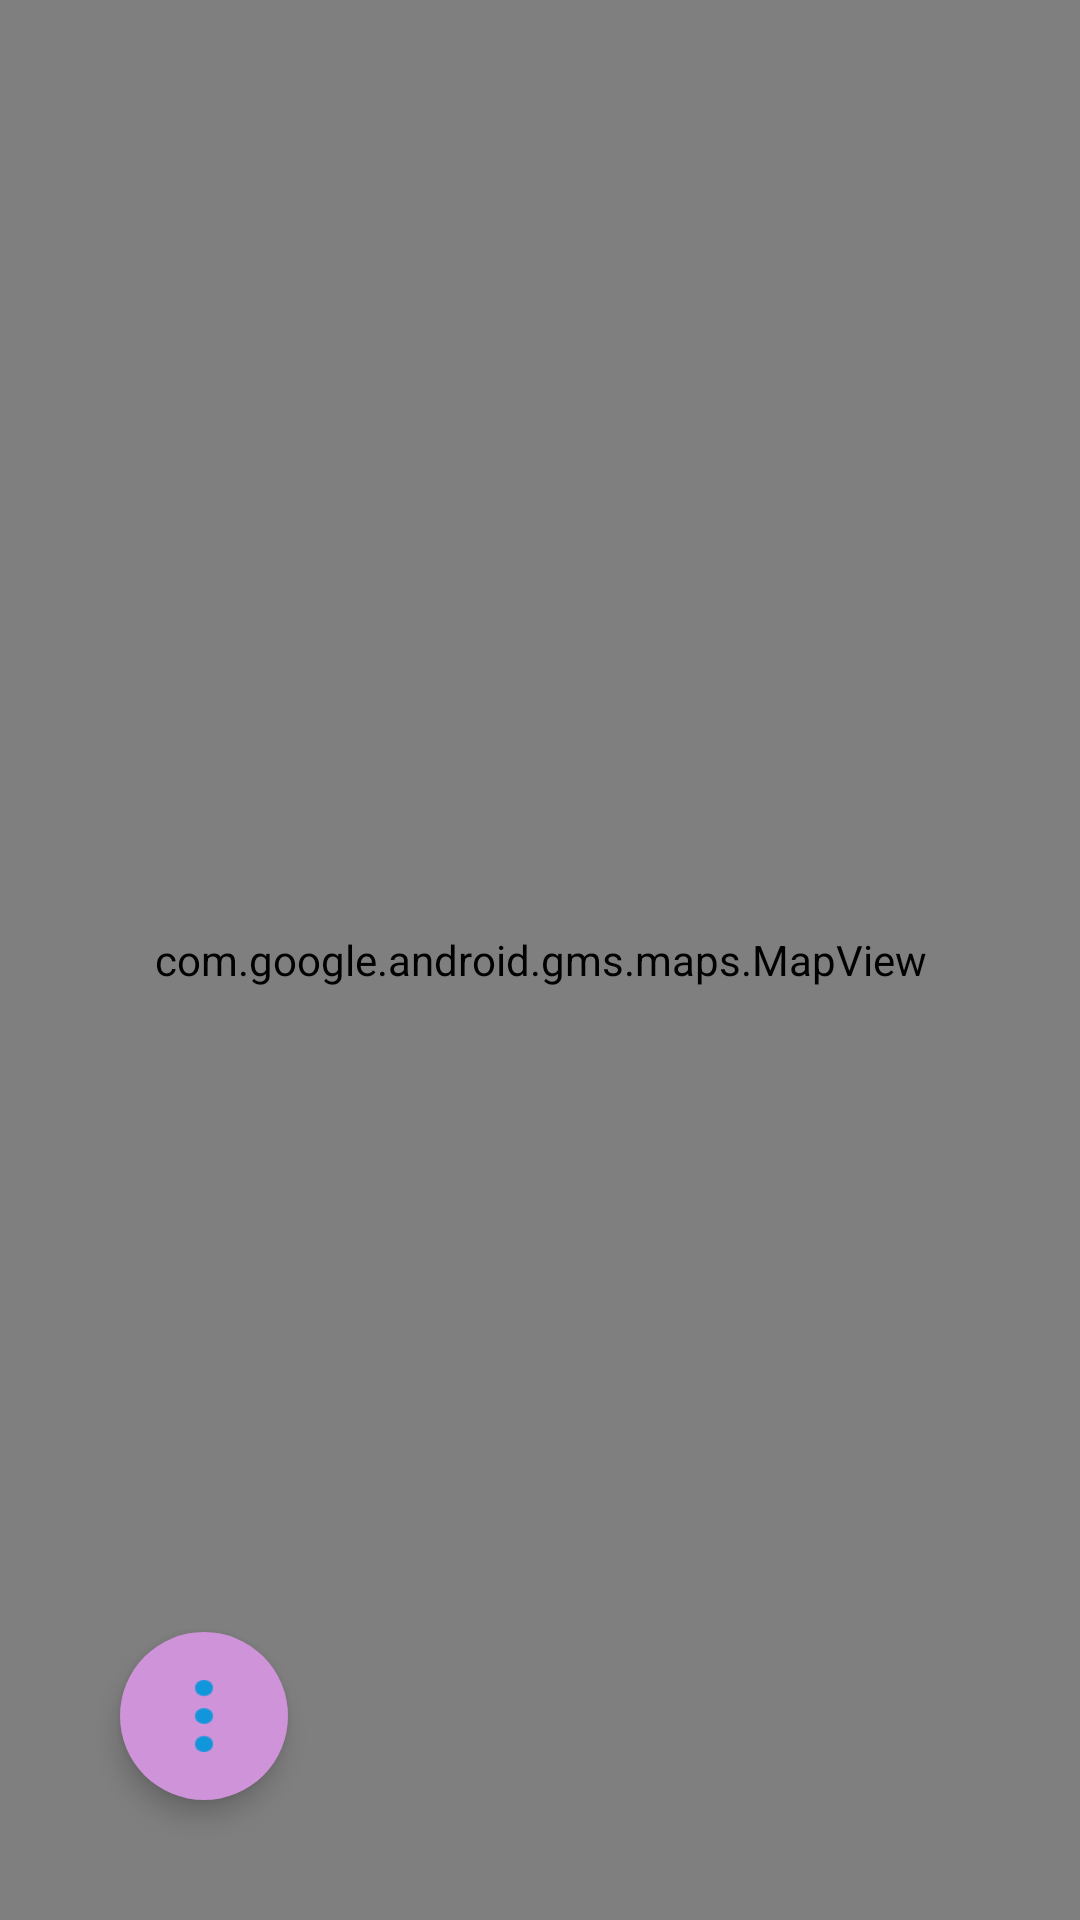

Screen size 1080×1920. Icon name, then its center in pixels as [x,y]:
option: [204,1716]
